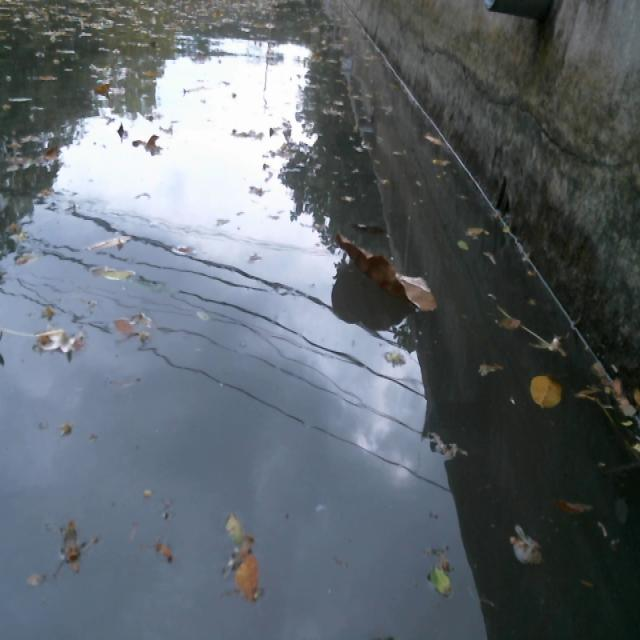Big-leaf: (332, 226, 442, 320)
Small-leaf: (570, 379, 640, 455), (503, 522, 548, 566), (34, 324, 87, 361), (526, 366, 565, 411), (232, 543, 262, 601), (58, 512, 86, 574), (88, 259, 141, 286), (551, 488, 597, 519), (82, 230, 135, 255), (425, 556, 455, 600), (129, 128, 162, 156), (488, 310, 524, 335), (222, 509, 246, 546), (152, 536, 177, 567), (424, 125, 450, 153), (108, 313, 138, 337), (478, 356, 507, 379), (462, 219, 490, 241), (10, 249, 38, 268), (245, 181, 270, 197), (590, 359, 607, 381), (427, 153, 449, 169), (114, 117, 128, 142), (454, 234, 472, 249)
